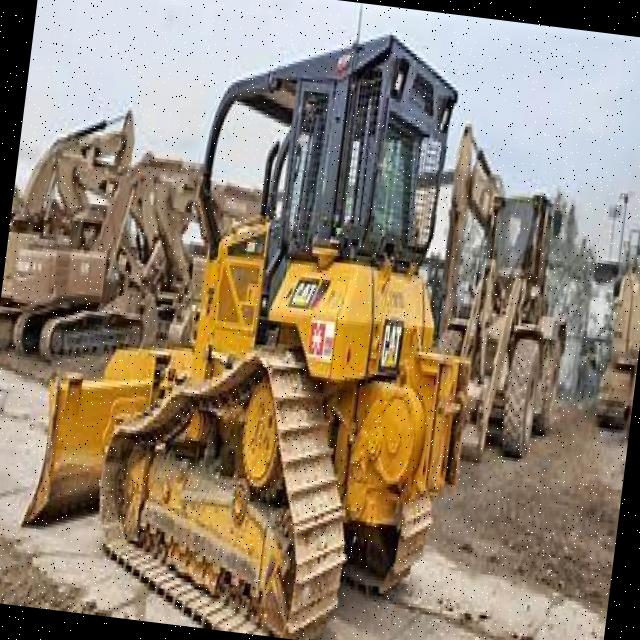Bulldozer: (4, 0, 510, 640)
